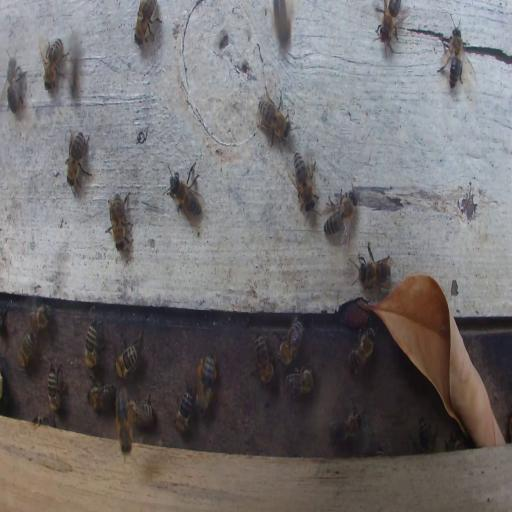nonpollenbee: (437, 16, 469, 90), (165, 164, 203, 223), (256, 87, 290, 146), (65, 128, 92, 196), (373, 0, 410, 49), (353, 244, 393, 288), (324, 188, 358, 237), (40, 36, 70, 91), (290, 151, 317, 212), (106, 190, 133, 250), (346, 325, 376, 375), (276, 318, 304, 367), (114, 330, 141, 380), (329, 406, 364, 444), (4, 52, 26, 111), (133, 0, 159, 46), (253, 332, 274, 386), (174, 377, 194, 433), (284, 365, 315, 399), (273, 0, 293, 51), (410, 416, 436, 454), (25, 305, 52, 340), (126, 397, 156, 428), (47, 361, 64, 415), (87, 382, 117, 412), (84, 318, 100, 370), (17, 329, 35, 369)
pollenbee: (113, 379, 134, 456), (197, 352, 217, 416)
